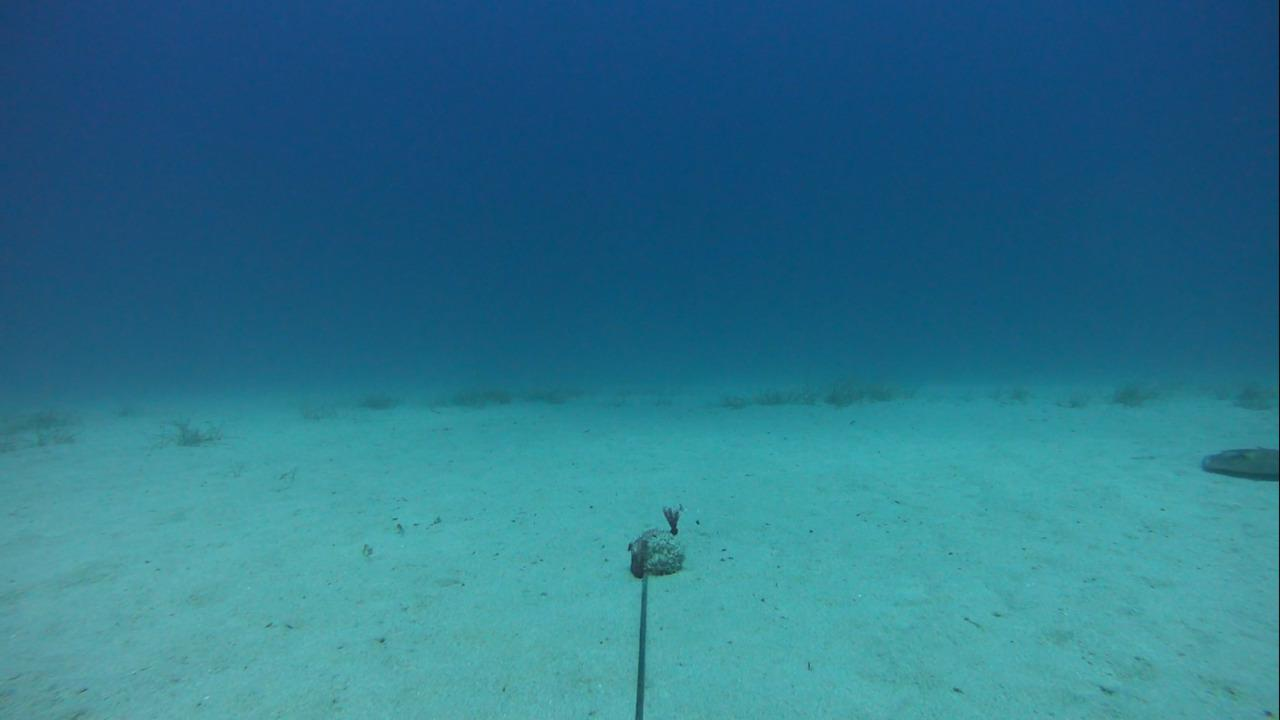myliobatis: (1194, 439, 1279, 486)
